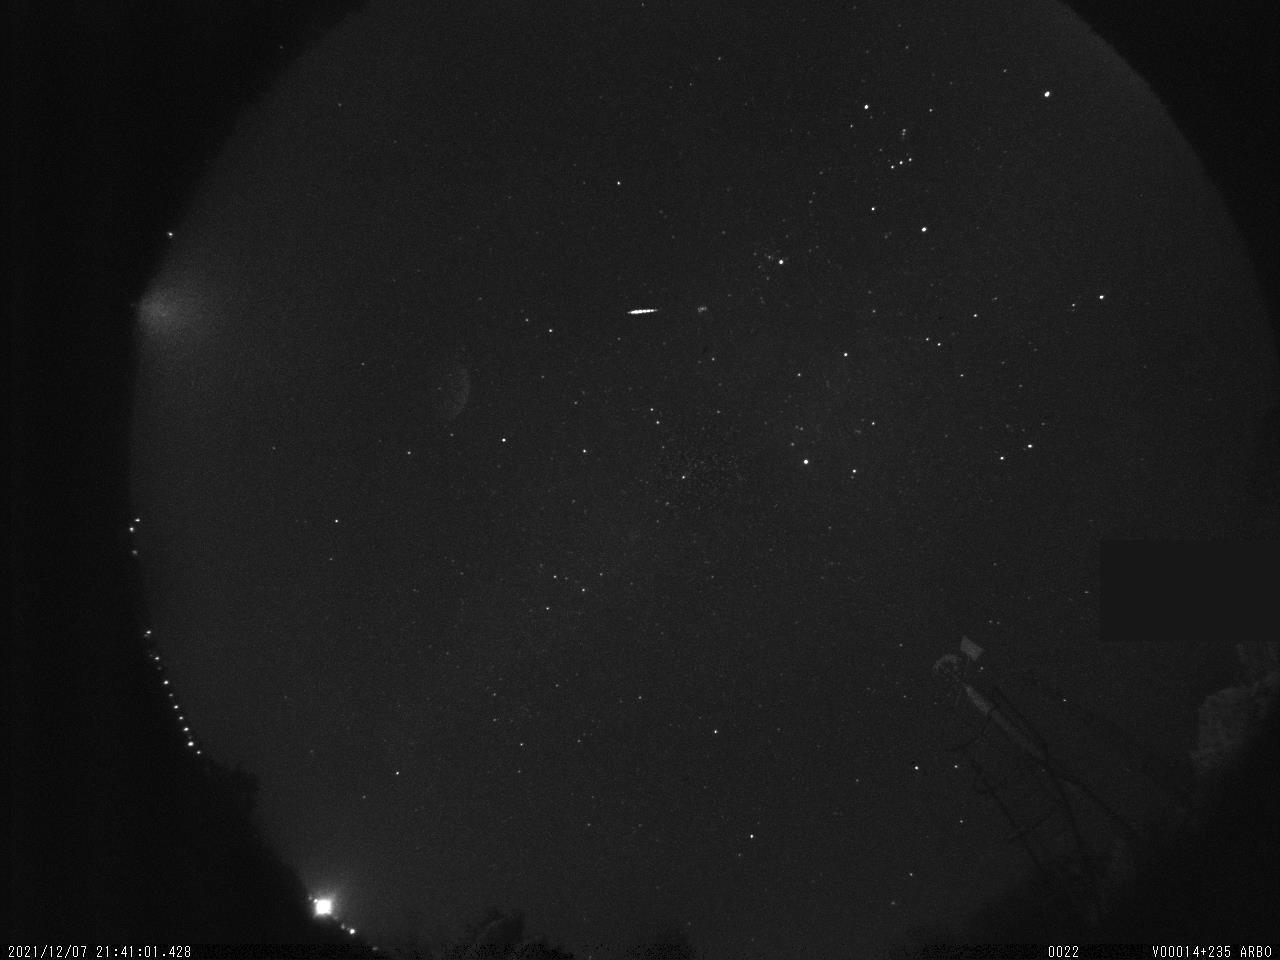Meteor: (626, 305, 657, 316)
